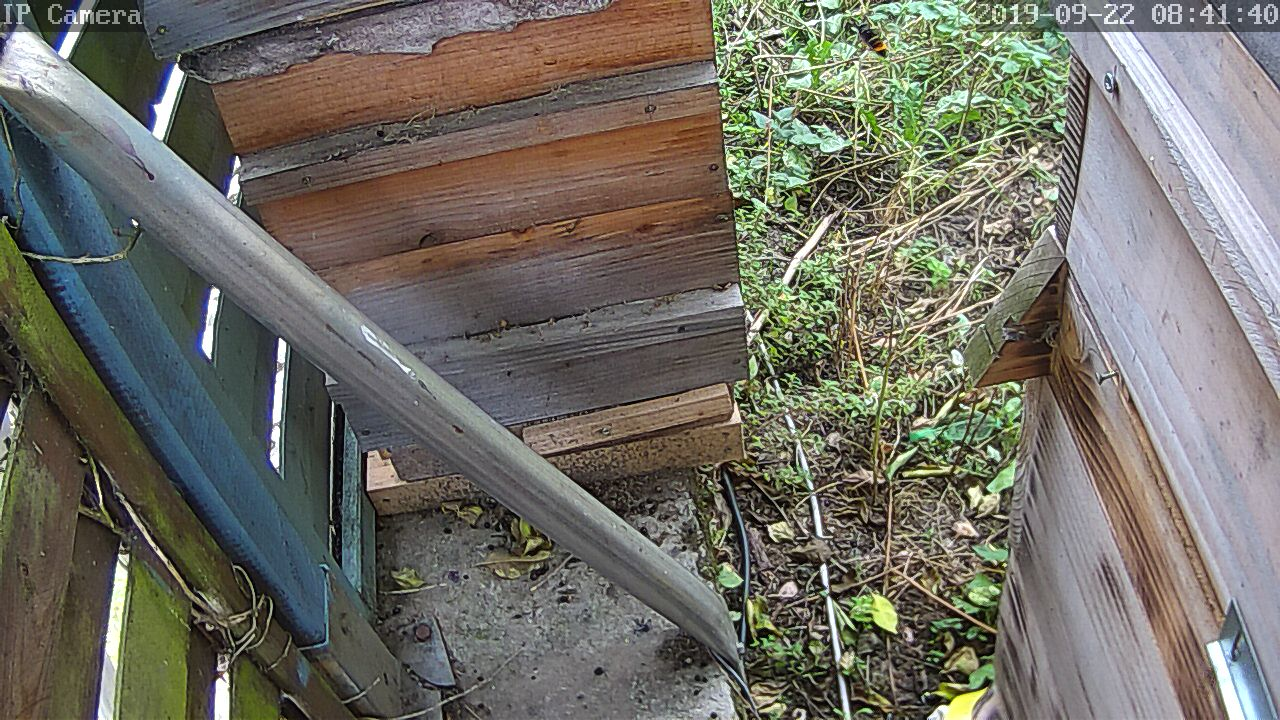hornet: (842, 9, 892, 67)
